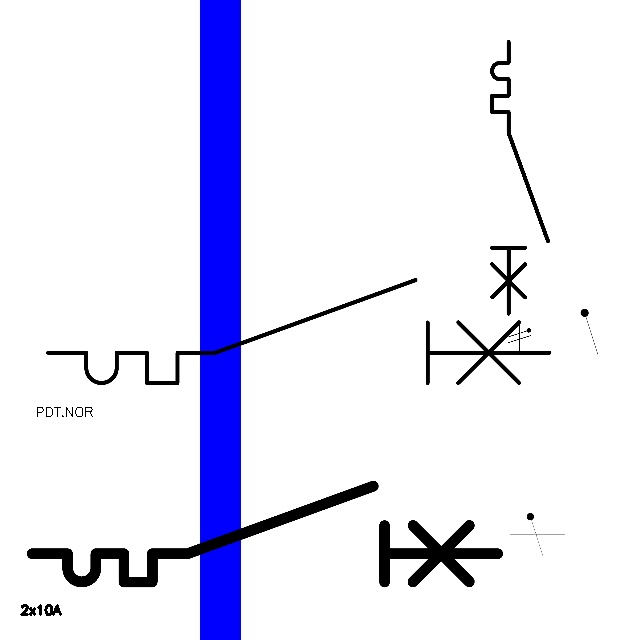interruptor_termomagnetico: (35, 267, 562, 396), (20, 474, 509, 594), (485, 35, 555, 320)
